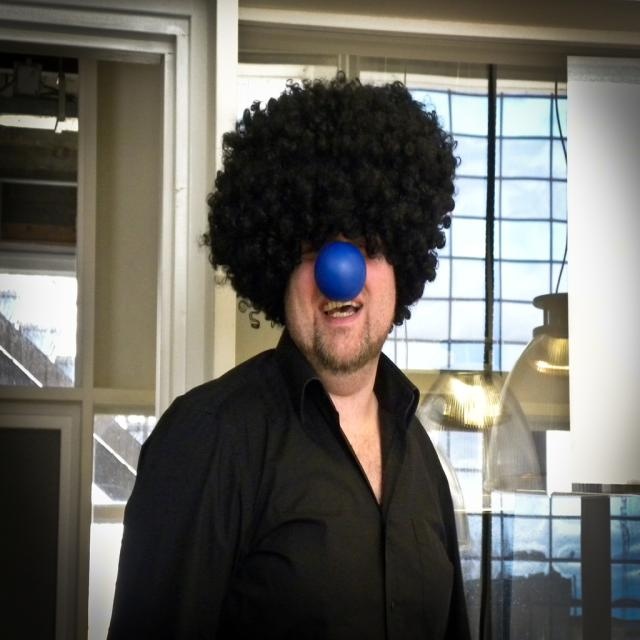Ball: (314, 242, 367, 301)
